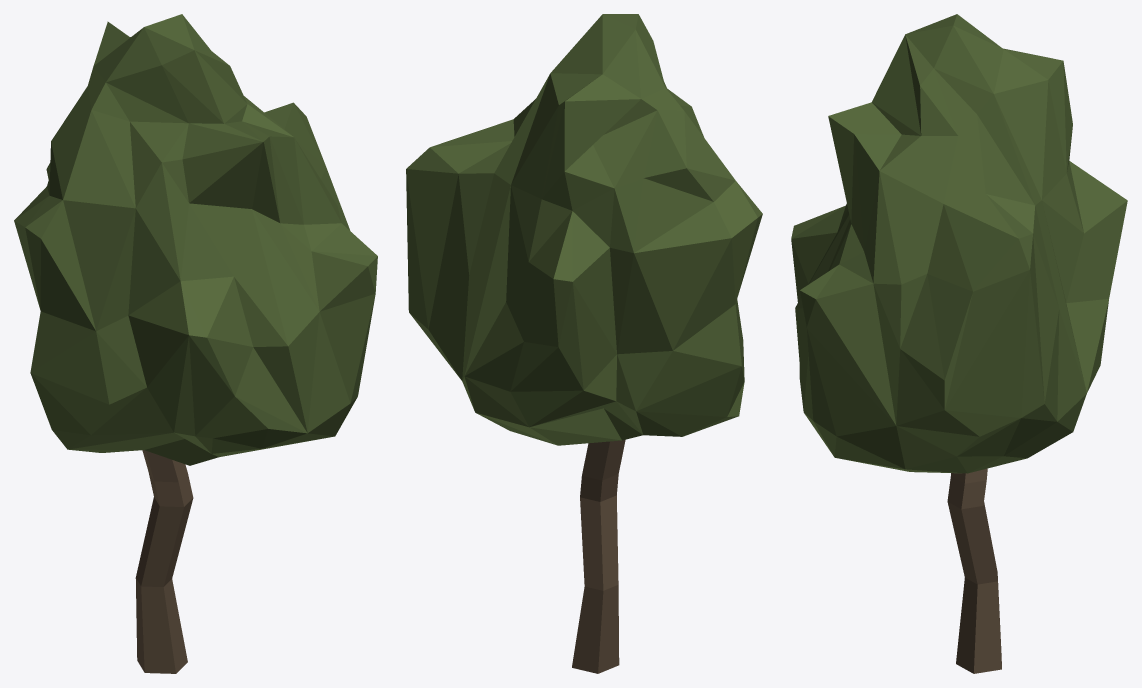
The model's file is tree_009.fbx.
3 renders of one model, left to right at view 1: azimuth 30°, elevation 25°; view 2: azimuth 150°, elevation 25°; view 3: azimuth 270°, elevation 25°, orthographic. The views are drawn at different scales.
Visible parts, largest first — view 1: tree_009; view 2: tree_009; view 3: tree_009.
Part boxes in pixels (x1,y1,x2,y2): tree_009: (14, 14, 377, 673); tree_009: (406, 14, 762, 673); tree_009: (791, 14, 1127, 673).
Bounding box in the file's own units: 0.5131 × 0.9701 × 0.462.
1 material, 1 textured.
